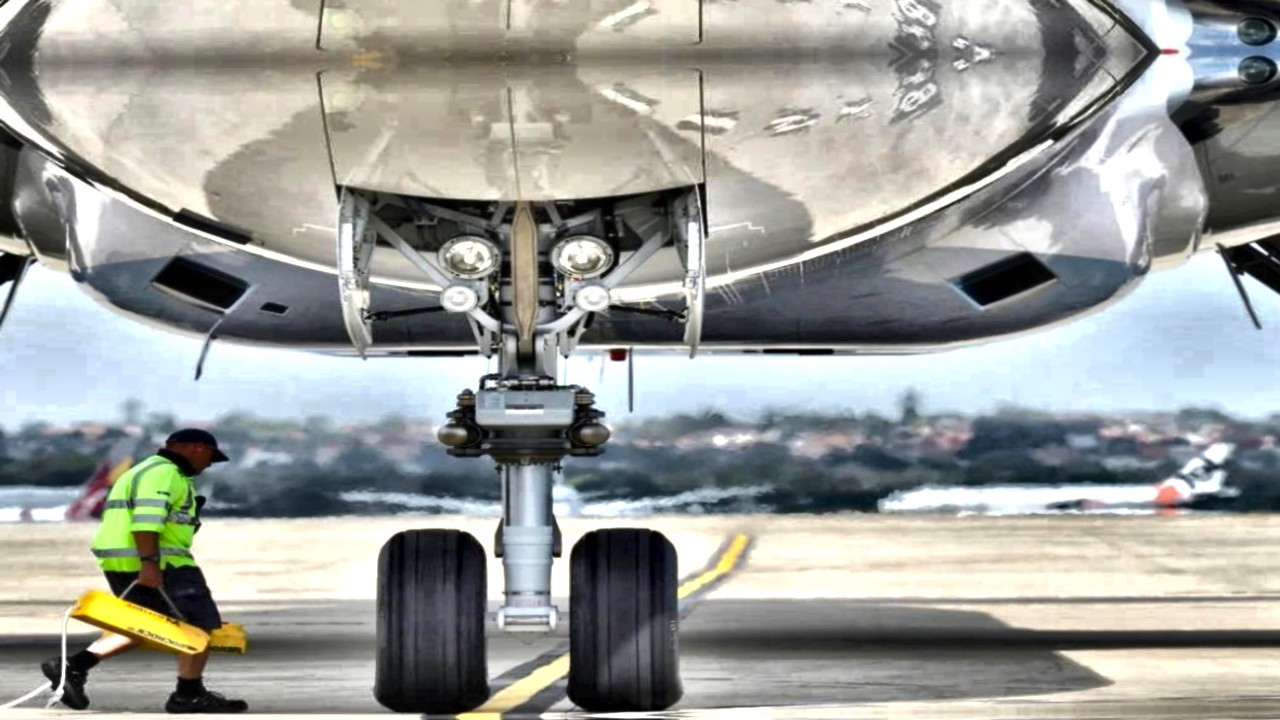chock: (64, 588, 217, 657), (103, 619, 248, 653)
wheel: (373, 528, 492, 713), (568, 527, 686, 711)
